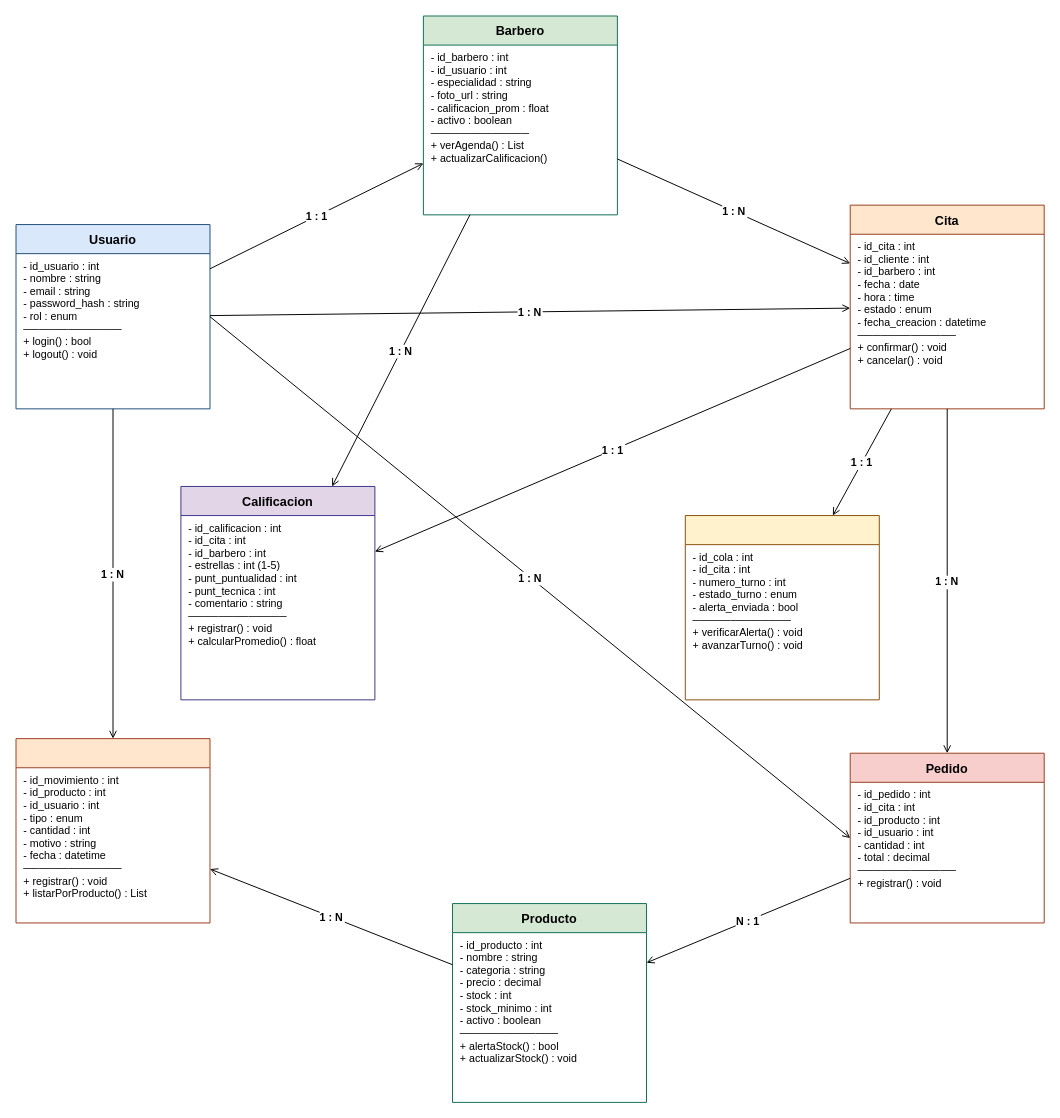
The diagram is 1060 pixels wide and 1118 high, and some of its shapes have lost their labels. Each missing label, with the box of its shape:
ColaEspera: (684, 515, 879, 700)
MovimientoInventario: (15, 738, 210, 923)
